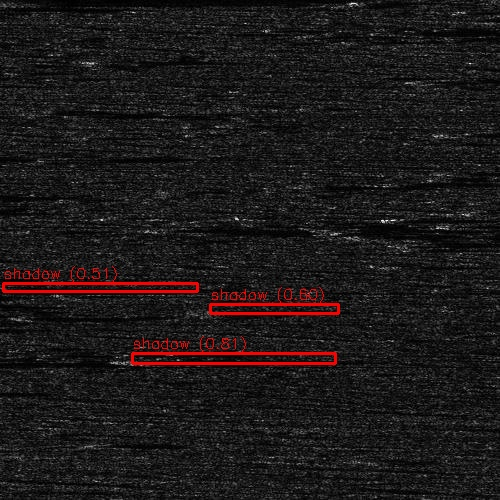rock: (171, 305, 244, 314), (416, 221, 499, 228), (122, 355, 175, 364), (0, 279, 12, 296), (393, 215, 434, 218)
shadow: (0, 279, 206, 296), (149, 355, 394, 364), (0, 356, 136, 367), (208, 305, 332, 314), (458, 221, 500, 228), (414, 215, 500, 218)
